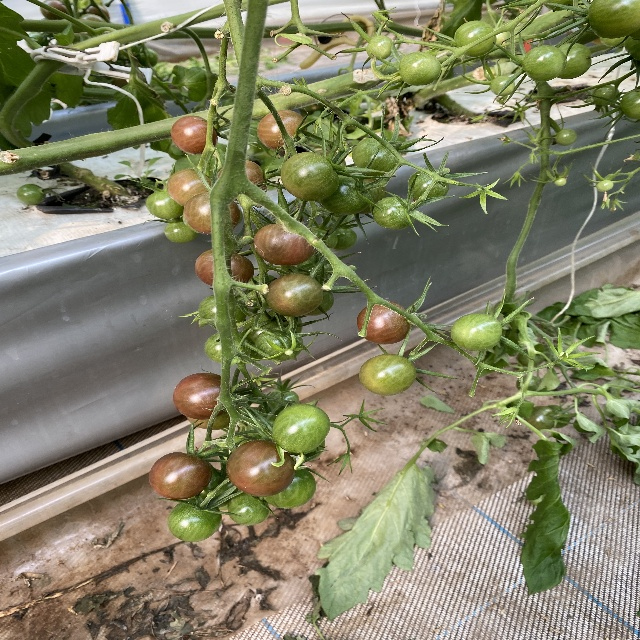l_fully_ripened: (173, 373, 229, 420)
l_green: (271, 403, 332, 454), (280, 152, 339, 201), (261, 462, 317, 508), (359, 353, 416, 396), (167, 498, 222, 541), (319, 175, 372, 216), (351, 136, 401, 179), (588, 0, 640, 39), (451, 313, 502, 352), (198, 294, 249, 329), (520, 44, 566, 81), (254, 328, 303, 362), (203, 329, 250, 364), (372, 196, 418, 230), (454, 21, 497, 57), (407, 168, 450, 203), (399, 51, 441, 86), (227, 492, 271, 525), (554, 42, 592, 80), (262, 389, 300, 424), (146, 191, 184, 219), (304, 284, 334, 316), (366, 34, 393, 60), (328, 227, 358, 250), (308, 227, 338, 248), (165, 223, 197, 242), (621, 89, 640, 120), (592, 85, 620, 106), (489, 74, 515, 96), (554, 129, 578, 145), (595, 179, 614, 192), (553, 177, 566, 187)
l_half_ripened: (227, 440, 298, 497), (149, 451, 212, 500), (264, 273, 325, 318), (253, 224, 317, 266), (195, 248, 255, 289), (357, 301, 412, 345), (184, 192, 241, 233), (257, 110, 308, 151), (167, 169, 217, 207), (171, 115, 218, 154), (188, 412, 230, 430)
